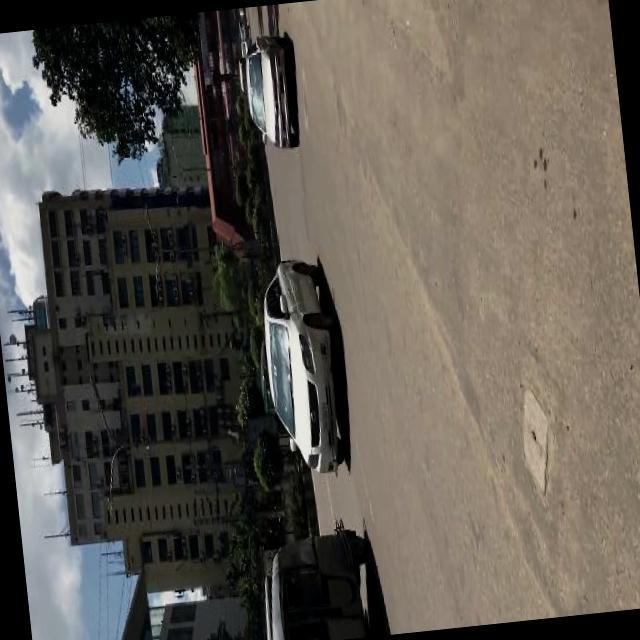car: (254, 254, 352, 483), (239, 32, 304, 156)
motorcycle: (258, 516, 381, 640)
